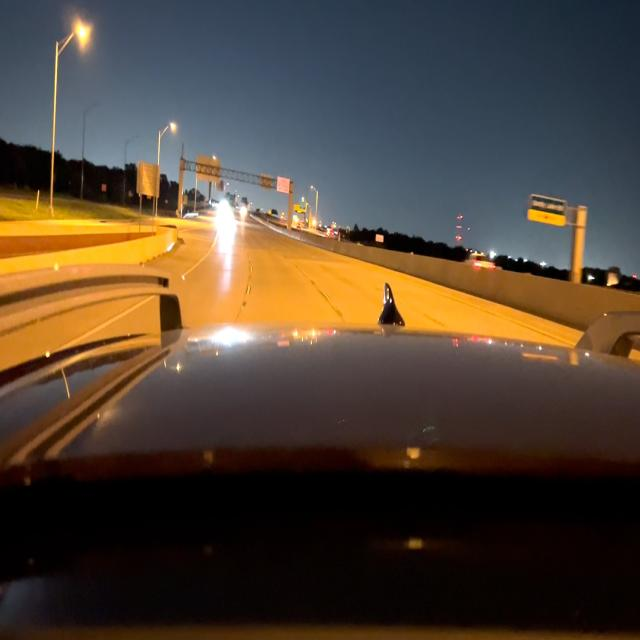back-of-sign: (139, 161, 159, 197)
